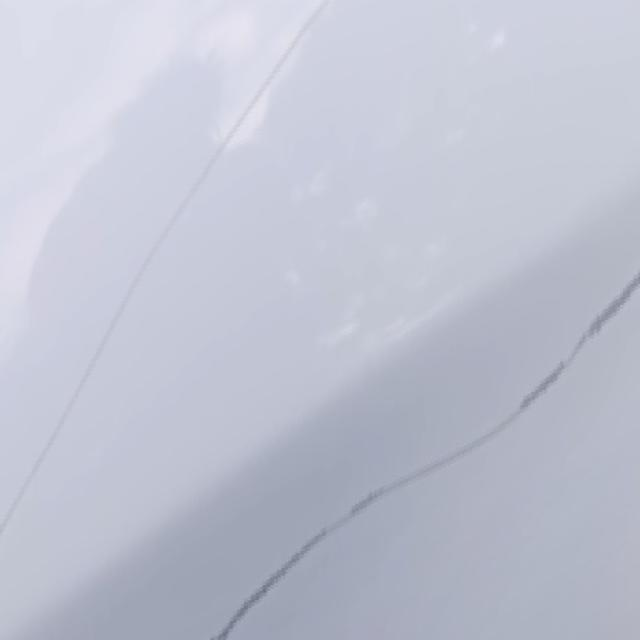crack: (297, 214, 631, 589), (25, 93, 305, 491)
